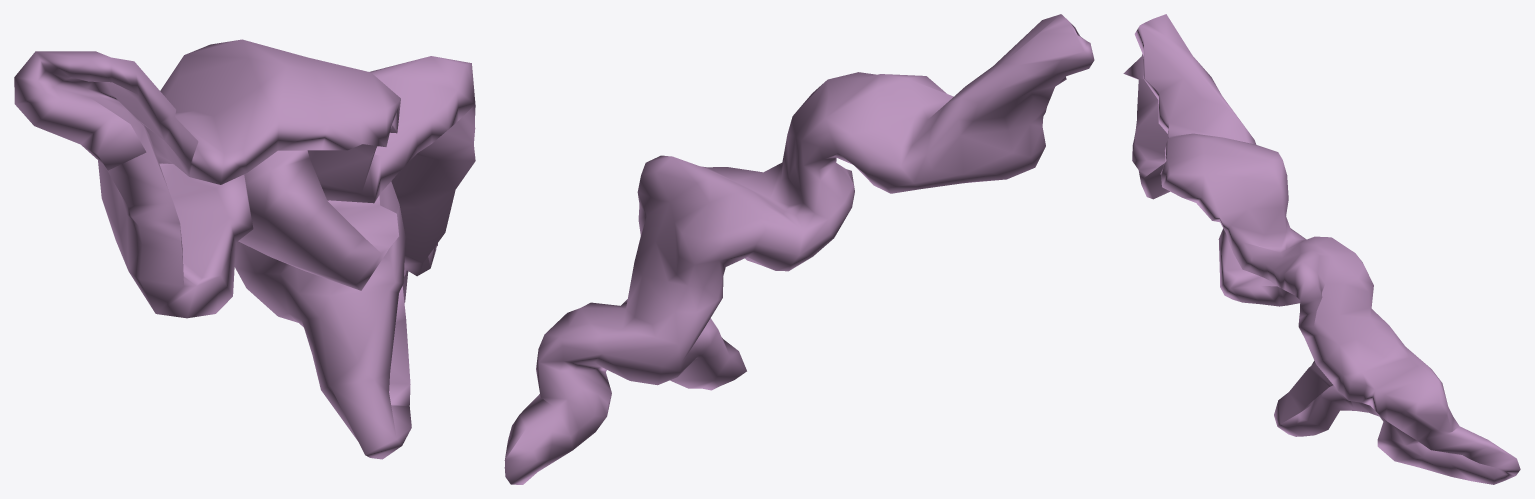
3 renders of one model, left to right at view 1: azimuth 30°, elevation 25°; view 2: azimuth 150°, elevation 25°; view 3: azimuth 270°, elevation 25°, orthographic. The views are drawn at different scales.
Visible parts, largest first — view 1: 左侧中央沟; view 2: 左侧中央沟; view 3: 左侧中央沟.
Part boxes in pixels (x1,y1,x2,y2): 左侧中央沟: [14, 39, 475, 459]; 左侧中央沟: [504, 14, 1094, 484]; 左侧中央沟: [1123, 14, 1520, 484].
Size of the model in its own units: 0.0756 by 0.0713 by 0.0783.
